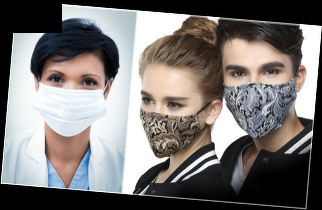with_mask: (221, 56, 295, 139), (36, 67, 104, 139), (137, 89, 202, 159)
